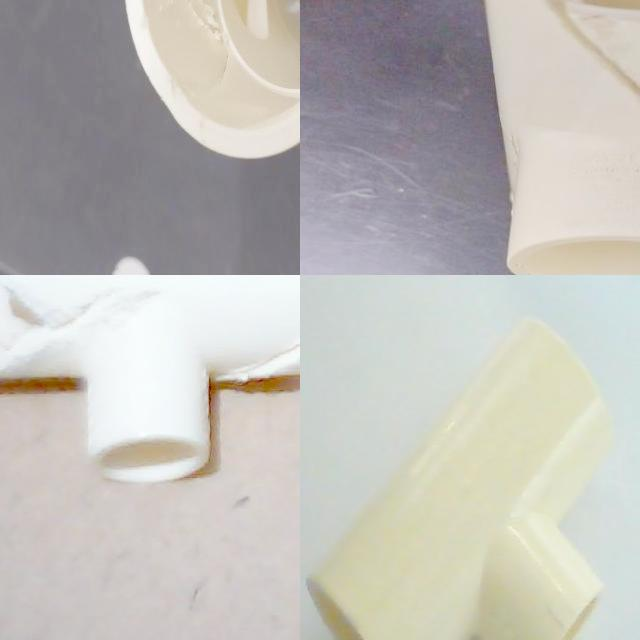Defective: (543, 0, 640, 150), (0, 275, 70, 389), (128, 0, 233, 69), (217, 326, 300, 396)
T Joint: (305, 316, 614, 640)
